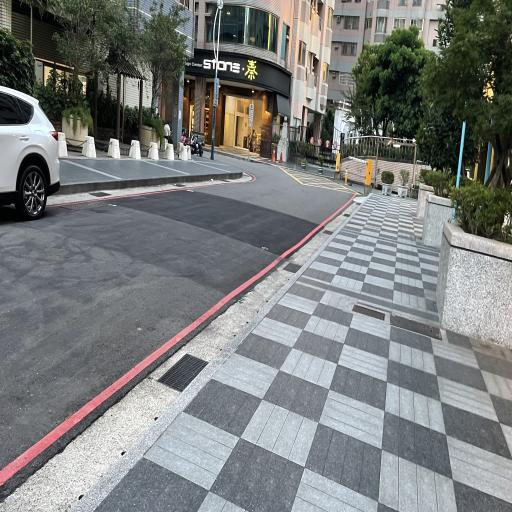MIU: (31, 173, 81, 220)
car: (0, 79, 71, 228)
redline: (0, 191, 362, 493), (42, 166, 259, 219)
